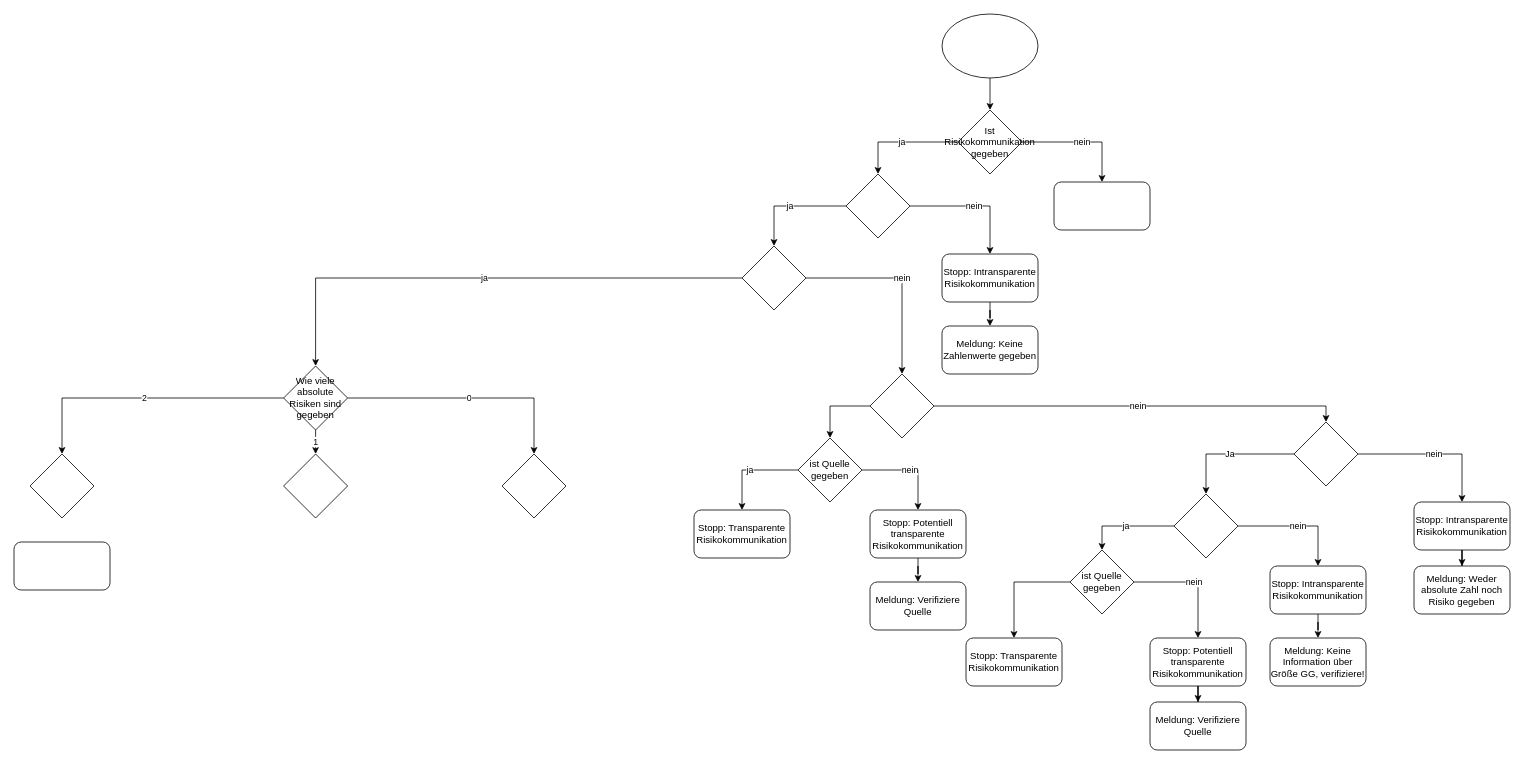
This 1524x764 diagram has some shape labels left out. The centre of each missing label's shape, as x and y in pixels:
Erhalte Input von LLM: [989,45]
Gibt es mehrere Szenarien: [773,277]
Gibt es Zahleninformation: [877,205]
Ist absolute Zahl gegeben: [1325,453]
Ist ein absolutes Risiko gegeben: [901,405]
Ist Größe der Grundgesamtheit bekannt: [1205,525]
Stopp:Keine Risikokommunikation: [1101,205]
